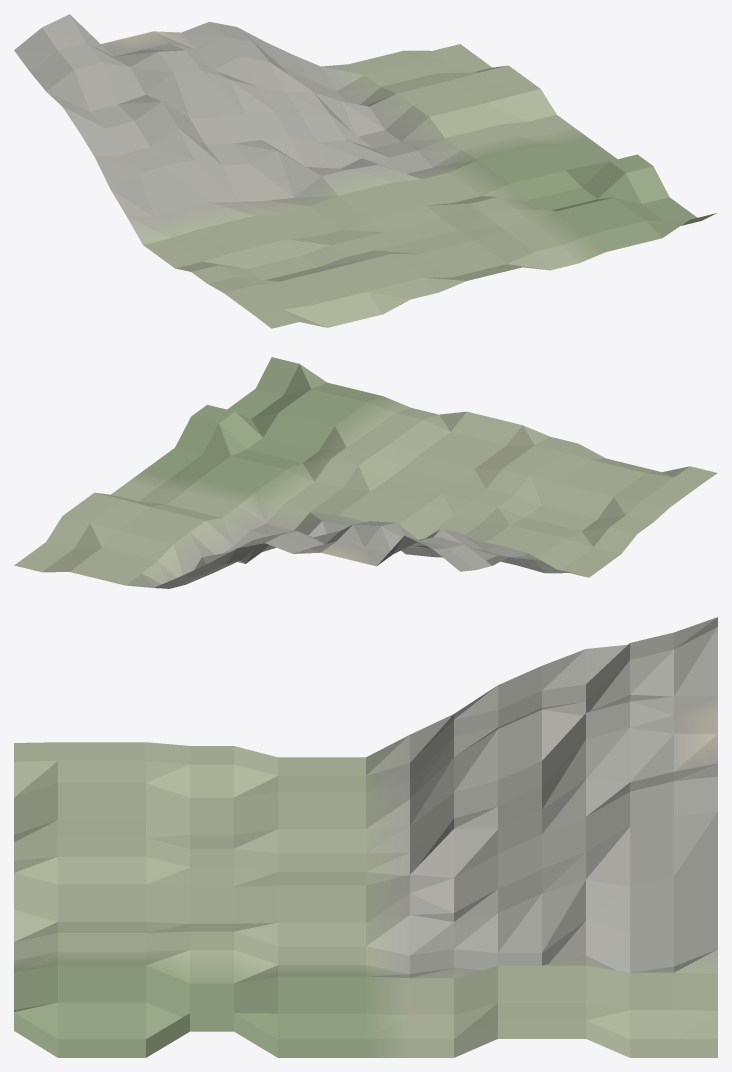
The picture shows the model from 3 angles, top to bottom: view 1: azimuth 30°, elevation 25°; view 2: azimuth 150°, elevation 25°; view 3: azimuth 270°, elevation 25°; orthographic projection. The views are drawn at different scales.
Size of the model in its own units: 32 by 9.19 by 32.
